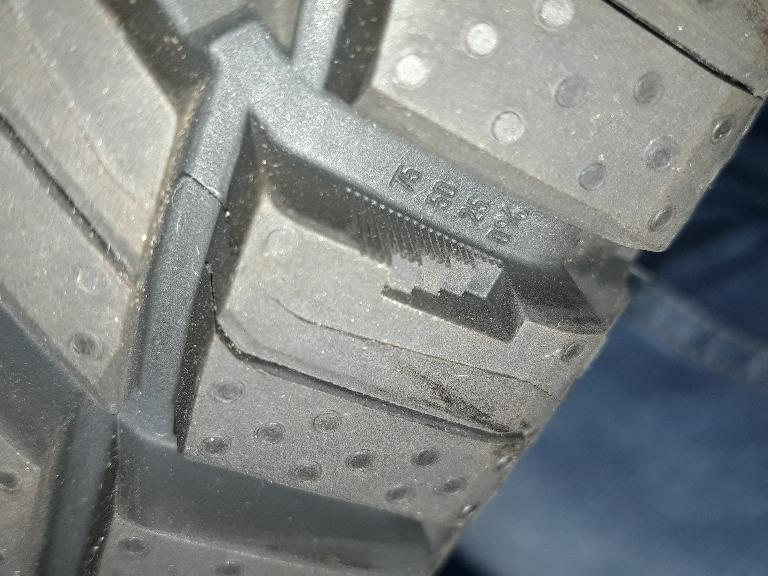temoin:100: (343, 184, 530, 349)
